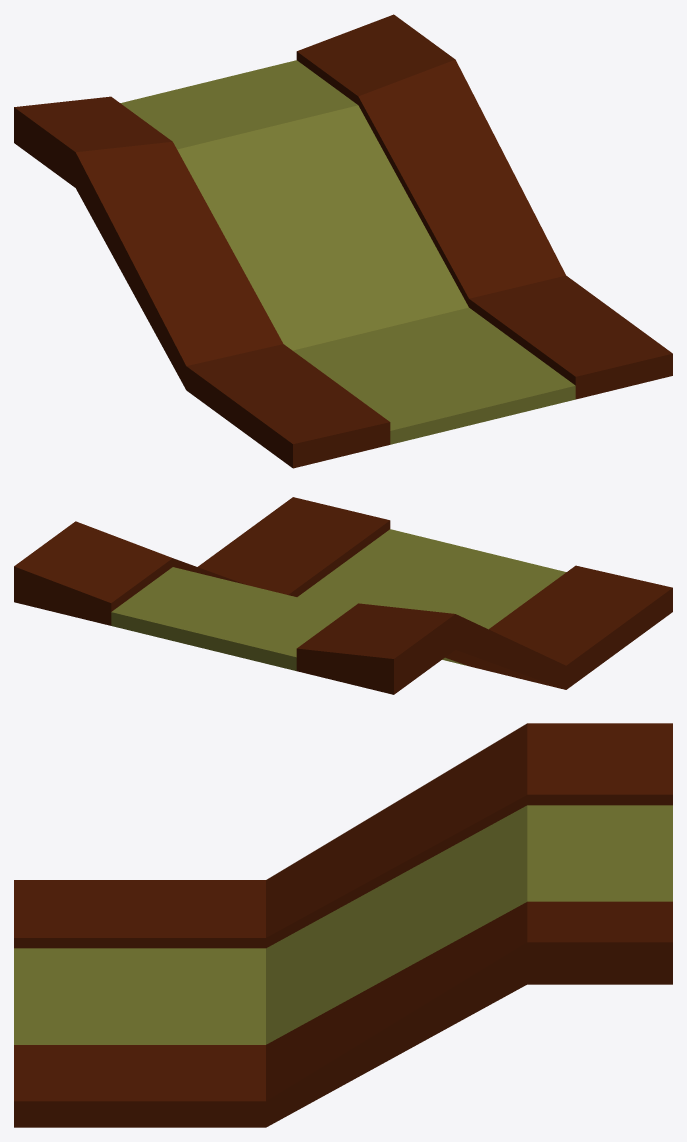
Rendered from DownSlope.fbx.
3 views of the same model, one above another, from view 1: azimuth 30°, elevation 25°; view 2: azimuth 150°, elevation 25°; view 3: azimuth 270°, elevation 25° (orthographic). The views are drawn at different scales.
Parts seen in each view (by area): view 1: UpSlope; view 2: UpSlope; view 3: UpSlope.
Part boxes in pixels (x1,y1,x2,y2): UpSlope: (14, 14, 672, 468); UpSlope: (14, 497, 672, 694); UpSlope: (14, 723, 672, 1127).
Size of the model in its own units: 2867 by 3648 by 1133.
